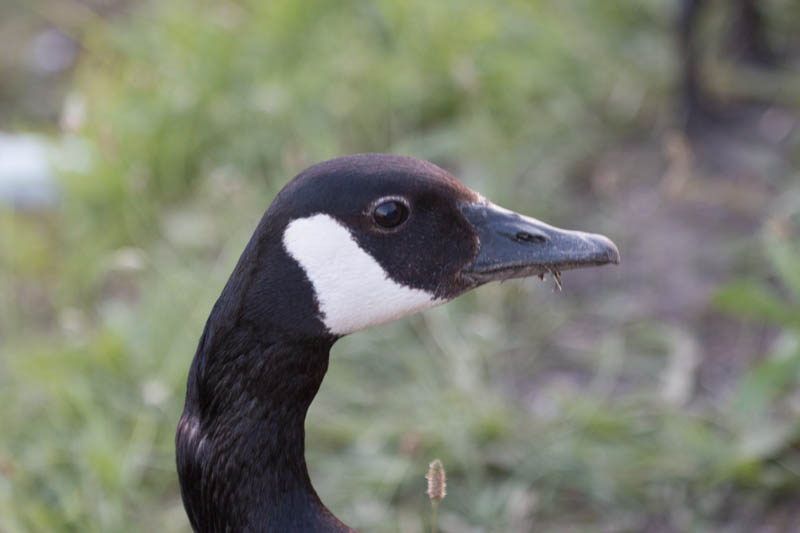goose-head: (228, 153, 620, 346)
